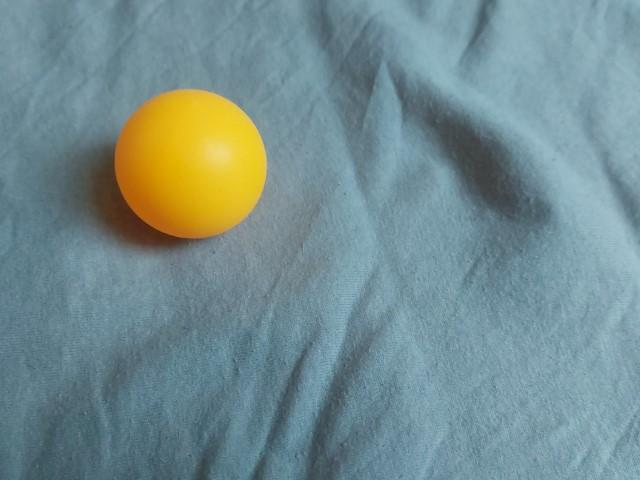oball: (106, 84, 276, 251)
